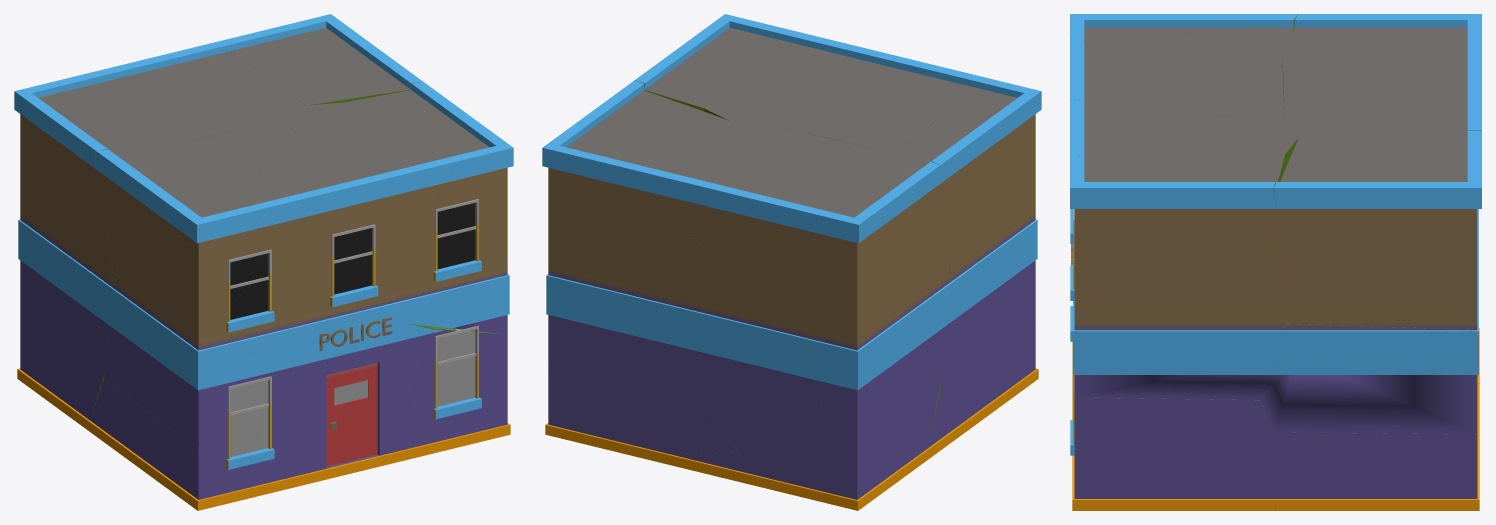
File: Police_cell_final.fbx
3 views of the same model, side by side, from view 1: azimuth 30°, elevation 25°; view 2: azimuth 150°, elevation 25°; view 3: azimuth 270°, elevation 25° (orthographic). The views are drawn at different scales.
Parts seen in each view (by area): view 1: Police_cell.001, Police_cell.023, Police_cell.019, Police_cell.006, Police_cell.002, Police_cell.012, Police_cell.018, Police_cell.015, Police_cell.008, Police_cell, Police_cell.022, Police_cell.009 (+14 smaller); view 2: Police_cell.001, Police_cell.023, Police_cell.018, Police_cell.020, Police_cell.017, Police_cell.014, Police_cell.002, Police_cell.005, Police_cell.006, Police_cell.012, Police_cell.019, Police_cell.022 (+7 smaller); view 3: Police_cell.019, Police_cell.018, Police_cell.023, Police_cell.015, Police_cell.014, Police_cell.005, Police_cell.012, Police_cell.016, Police_cell.007, Police_cell.017, Police_cell.003, Police_cell.002 (+1 smaller).
Part boxes in pixels (x1,y1,x2,y2): Police_cell.001: (14,109,112,428); Police_cell.023: (14,39,305,165); Police_cell.019: (344,81,513,334); Police_cell.006: (104,272,313,449); Police_cell.002: (95,150,280,331); Police_cell.012: (280,102,453,309); Police_cell.018: (226,14,422,105); Police_cell.015: (405,326,510,459); Police_cell.008: (204,259,374,382); Police_cell: (338,323,433,475); Police_cell.022: (86,379,251,510); Police_cell.009: (280,132,405,334); Police_cell.001: (806,180,949,510); Police_cell.023: (647,120,940,274); Police_cell.018: (542,80,728,273); Police_cell.020: (703,336,853,509); Police_cell.017: (546,190,703,333); Police_cell.014: (546,293,703,408); Police_cell.002: (897,77,1035,266); Police_cell.005: (545,367,737,455); Police_cell.006: (940,202,1037,387); Police_cell.012: (704,28,878,123); Police_cell.019: (635,14,783,111); Police_cell.022: (926,318,1038,460); Police_cell.019: (1070,154,1286,399); Police_cell.018: (1274,130,1481,329); Police_cell.023: (1282,14,1481,136); Police_cell.015: (1072,397,1275,510); Police_cell.014: (1260,351,1478,434); Police_cell.005: (1272,432,1479,510); Police_cell.012: (1070,103,1298,164); Police_cell.016: (1070,74,1284,119); Police_cell.007: (1070,46,1283,81); Police_cell.017: (1278,245,1478,357); Police_cell.003: (1070,14,1298,40); Police_cell.002: (1070,26,1294,54).
Bounding box in the file's own units: 1404 × 1218 × 1404.
